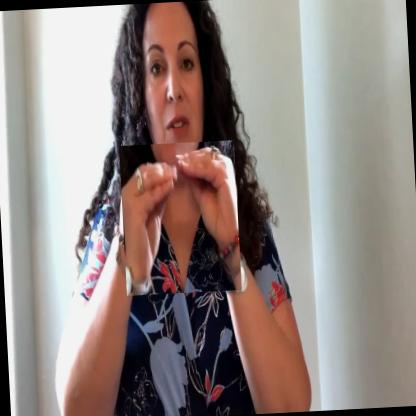Fix: (119, 140, 241, 296)
